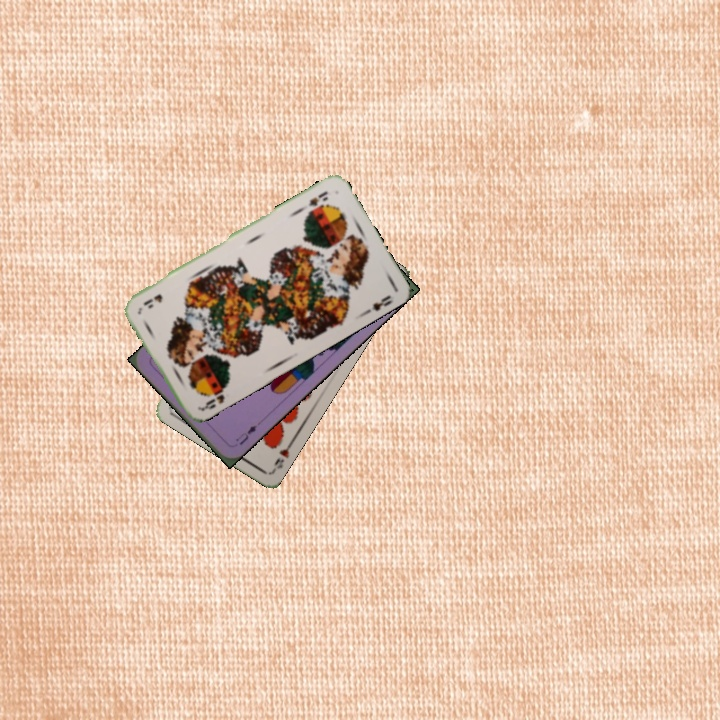EU: (231, 421, 260, 448)
H9: (269, 437, 296, 473)
SO: (196, 380, 230, 413), (304, 187, 331, 209)
